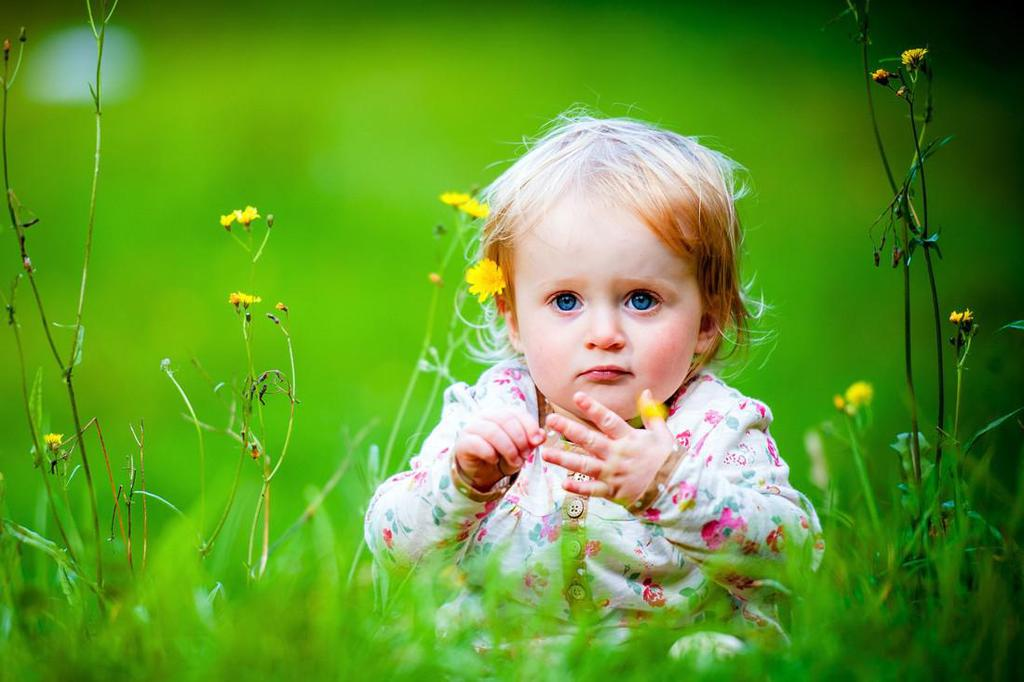child: (331, 92, 837, 673)
